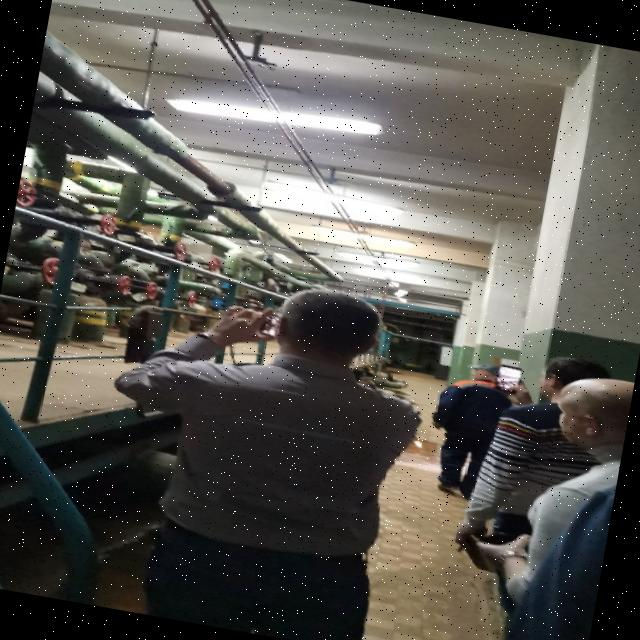NoHelmet: (263, 281, 393, 380), (546, 365, 636, 466), (537, 351, 611, 410), (467, 359, 506, 390)
